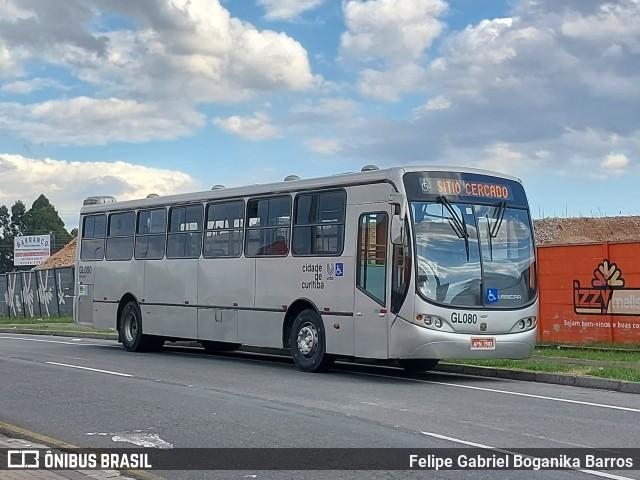SITIO CERCADO: (434, 180, 512, 202)
